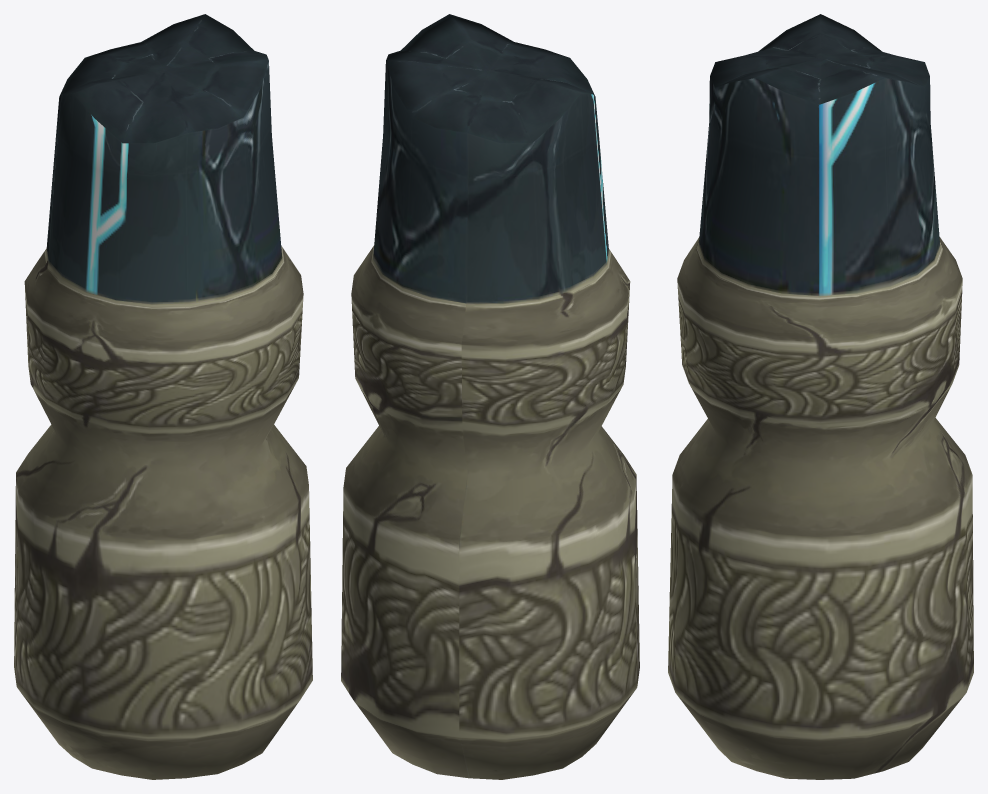
The model's file is pillar_INTERACTABLE_bot.fbx.
The picture shows the model from 3 angles, left to right: view 1: azimuth 30°, elevation 25°; view 2: azimuth 150°, elevation 25°; view 3: azimuth 270°, elevation 25°; orthographic projection.
Visible parts, largest first — view 1: pillar_INTERACTABLE_bot; view 2: pillar_INTERACTABLE_bot; view 3: pillar_INTERACTABLE_bot.
Boxes of the visible parts, left/top/right/bottom form: pillar_INTERACTABLE_bot: left=14, top=14, right=312, bottom=779; pillar_INTERACTABLE_bot: left=341, top=14, right=639, bottom=779; pillar_INTERACTABLE_bot: left=668, top=14, right=973, bottom=779.
Bounding box in the file's own units: 0.9123 × 2.31 × 0.9111.
Materials: 1 (1 with a texture image).
